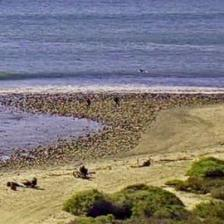surfer: (139, 69, 150, 73)
